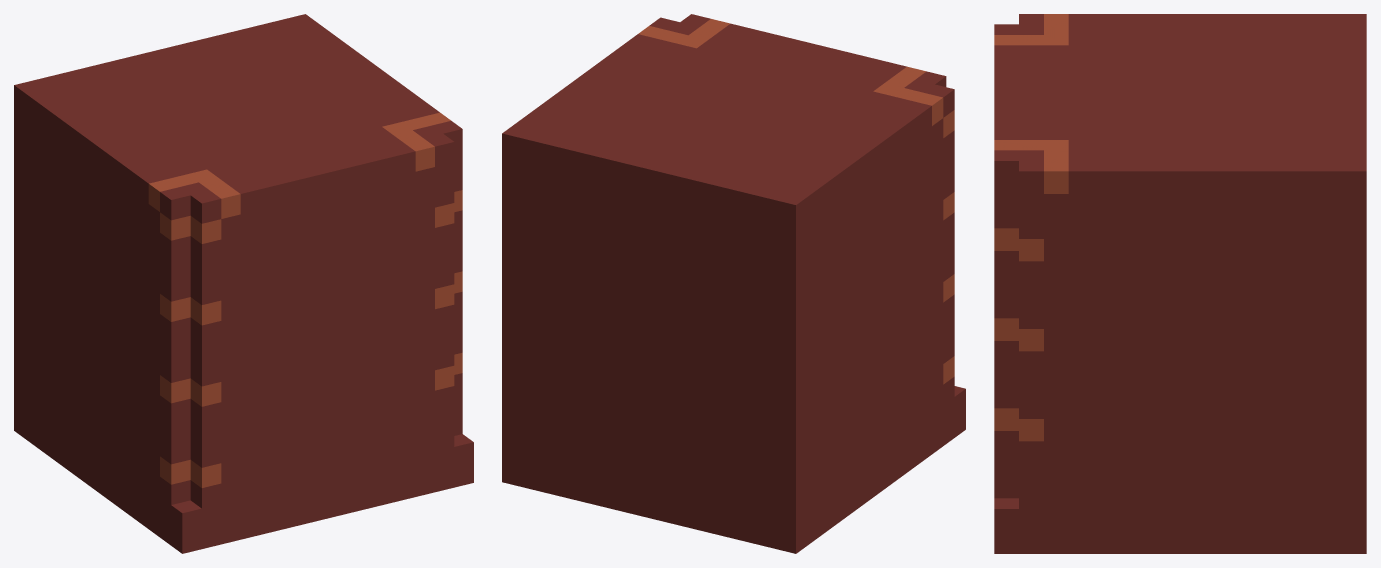
File: dungeon_b_a_outer_wall_segment_b_flipped.obj
The picture shows the model from 3 angles, left to right: view 1: azimuth 30°, elevation 25°; view 2: azimuth 150°, elevation 25°; view 3: azimuth 270°, elevation 25°; orthographic projection. The views are drawn at different scales.
Size of the model in its own units: 1.5 by 1.7 by 1.5.
1 material, 1 textured.
